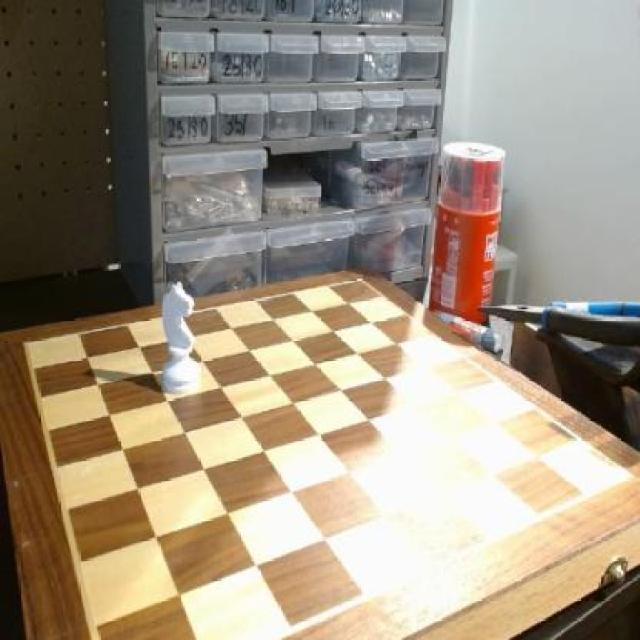white-king: (152, 283, 202, 398)
